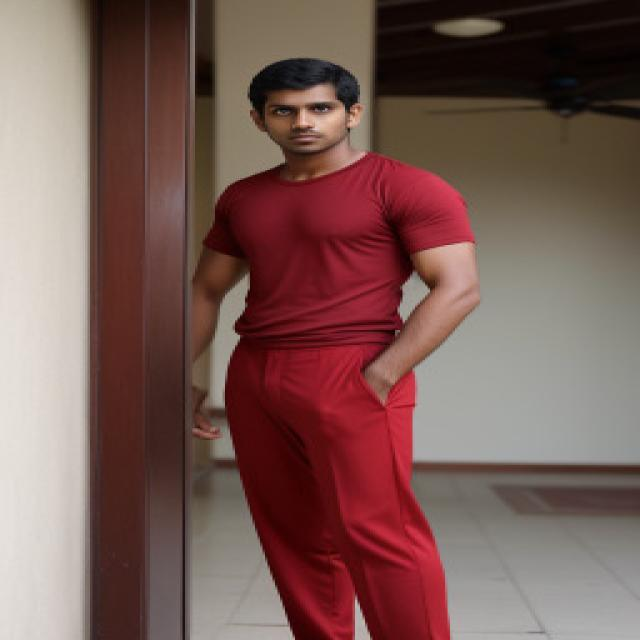Ai human 2: (170, 42, 503, 640)
